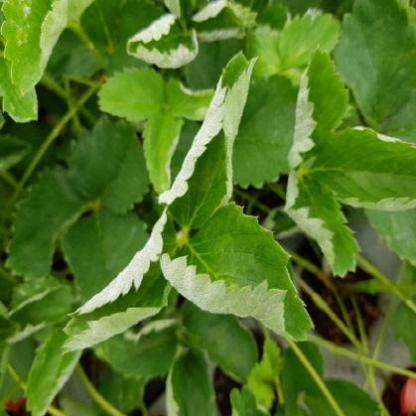Strawberry_Powdery_Mildew_Leaf: (158, 200, 317, 342), (158, 50, 260, 231), (60, 206, 180, 355), (298, 124, 416, 212), (282, 171, 362, 279), (287, 44, 353, 174), (0, 0, 70, 99), (126, 12, 199, 70), (190, 0, 250, 42)
